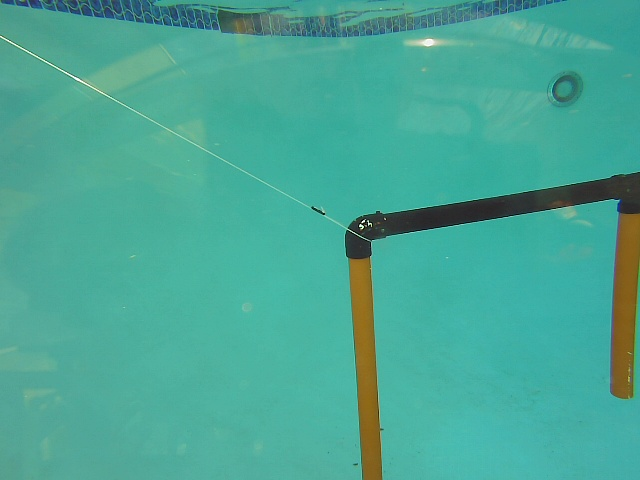Gate: (346, 253, 387, 480), (607, 205, 639, 404)
